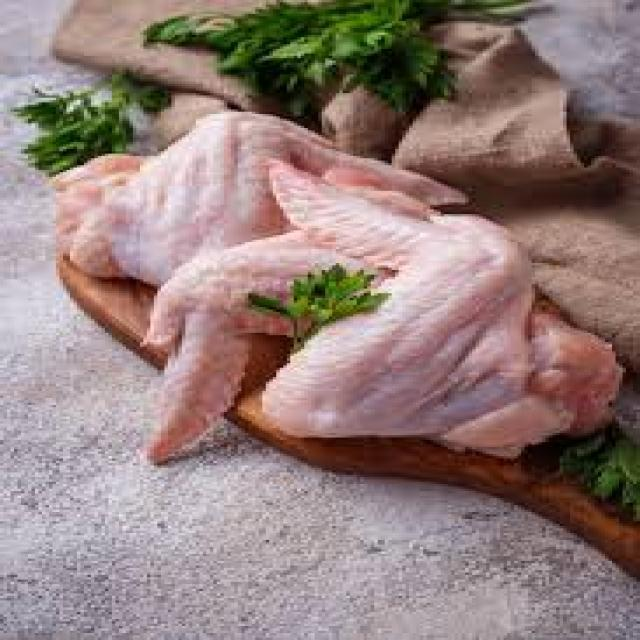wing: (256, 156, 620, 457), (41, 113, 442, 270), (138, 222, 385, 454)
